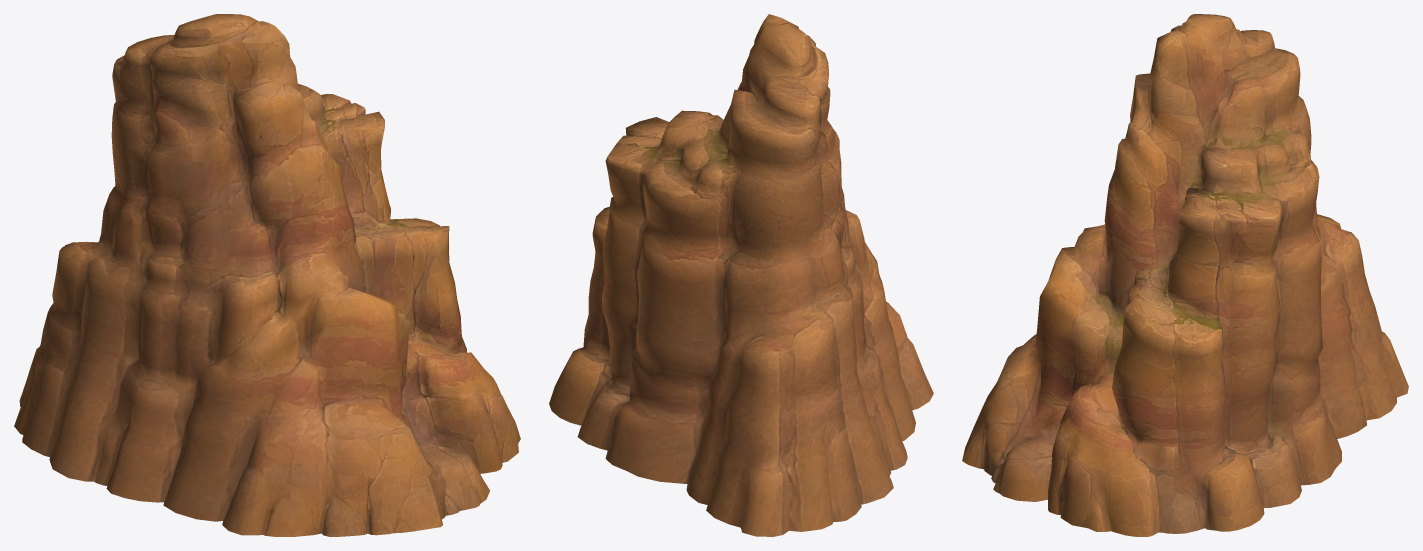
File: canyon-buttress.glb
The picture shows the model from 3 angles, left to right: view 1: azimuth 30°, elevation 25°; view 2: azimuth 150°, elevation 25°; view 3: azimuth 270°, elevation 25°; orthographic projection. The views are drawn at different scales.
Parts seen in each view (by area): view 1: tripo_node_8964fd96-61e1-4908-9a91-6f66d4adfe86; view 2: tripo_node_8964fd96-61e1-4908-9a91-6f66d4adfe86; view 3: tripo_node_8964fd96-61e1-4908-9a91-6f66d4adfe86.
Part boxes in pixels (bbox=[...]): tripo_node_8964fd96-61e1-4908-9a91-6f66d4adfe86: bbox=[14, 14, 520, 536]; tripo_node_8964fd96-61e1-4908-9a91-6f66d4adfe86: bbox=[549, 14, 933, 536]; tripo_node_8964fd96-61e1-4908-9a91-6f66d4adfe86: bbox=[962, 14, 1408, 536].
Bounding box in the file's own units: 0.9214 × 0.9995 × 0.9897.
Materials: 1 (1 with a texture image).
